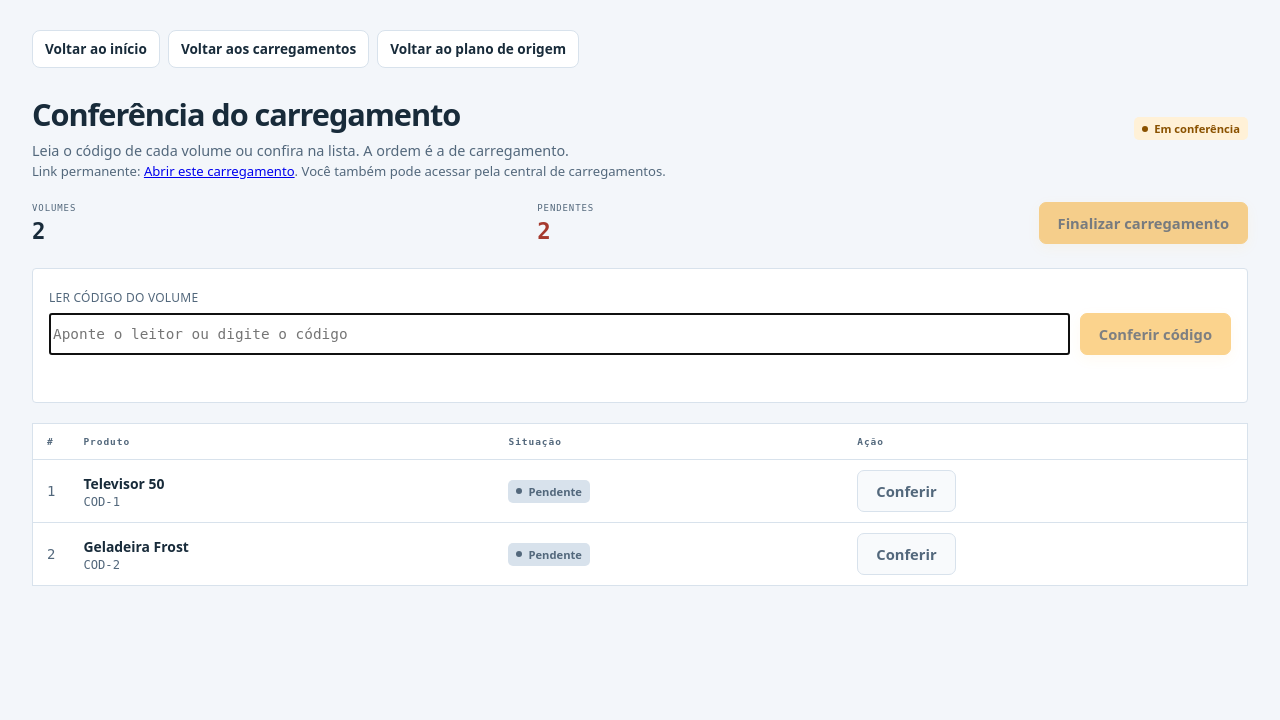
Test: LoadingPage — leitura de código (OC75) › recusa formato inválido SEM ir ao servidor
This screenshot has width=1280, height=720.
expect the text "Televisor 50" is shown: met, box 83,474 -> 164,493
Type "7891234567890" into the field labelled "LER CÓDIGO DO VOLUME" at (559, 334), box 49,313 -> 1070,355
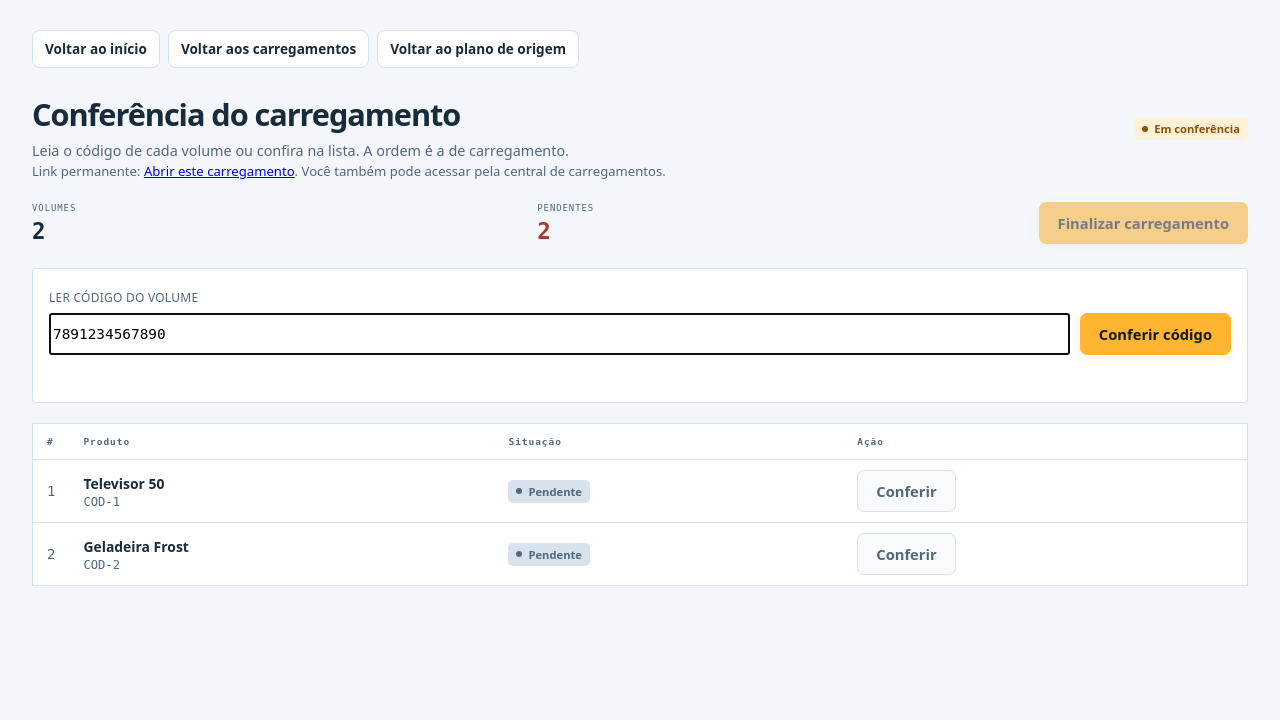
Submit the form labelled "LER CÓDIGO DO VOLUME", box 32,268 -> 1248,403
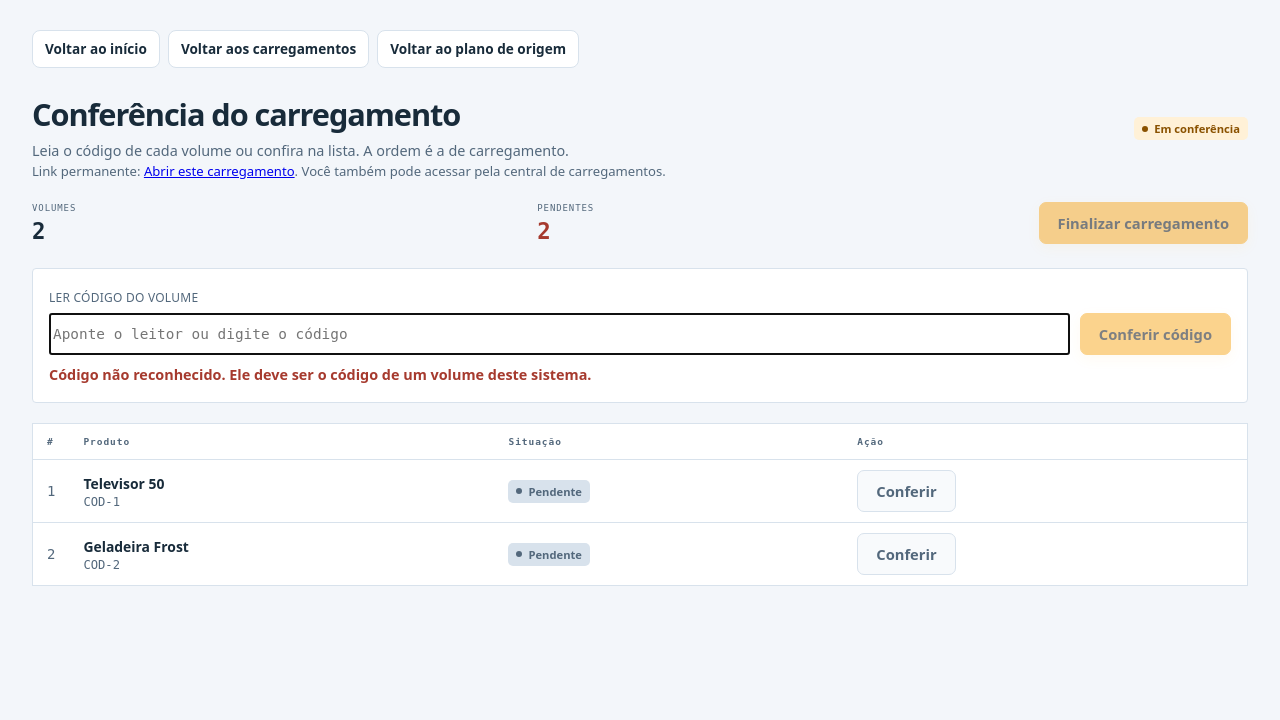
expect the message shows "não reconhecido": met, box 49,365 -> 592,384
